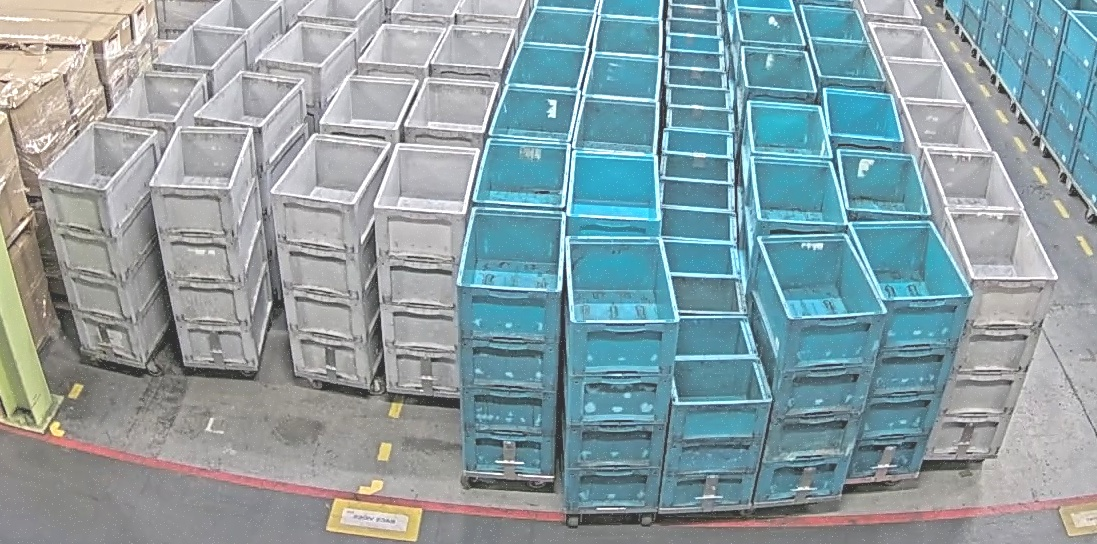4G: (923, 206, 1058, 460), (38, 120, 171, 362), (270, 133, 392, 386), (149, 126, 273, 367), (374, 143, 481, 393)
B4: (745, 232, 888, 503), (845, 220, 973, 479), (565, 237, 680, 510), (457, 206, 567, 476)
B8: (658, 316, 773, 508)
